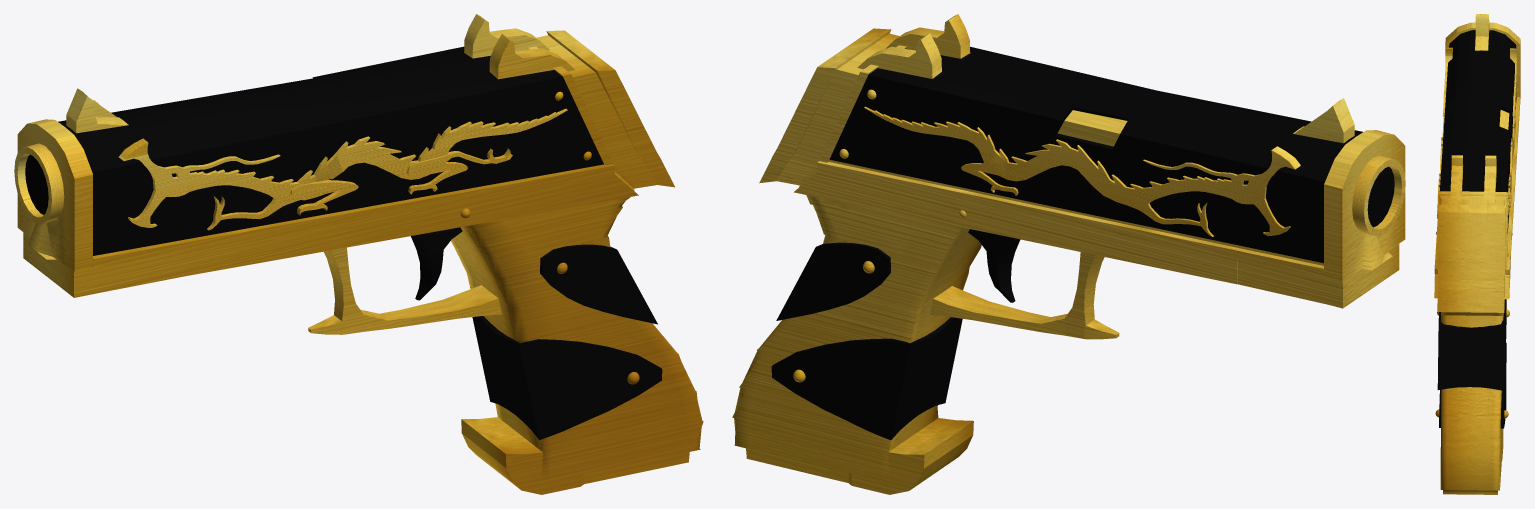
The model's file is arma killer unity.fbx.
3 renders of one model, left to right at view 1: azimuth 30°, elevation 25°; view 2: azimuth 150°, elevation 25°; view 3: azimuth 270°, elevation 25°, orthographic. The views are drawn at different scales.
Parts seen in each view (by area): view 1: cuerpo_del_arma1, base1, dragon, base2, agujero1; view 2: cuerpo_del_arma1, base1, dragon1, base2, agujero1; view 3: cuerpo_del_arma1, base2, dragon1, dragon, base1.
Part boxes in pixels (x1=…): cuerpo_del_arma1: x1=17, y1=14, x2=703, y2=494; base1: x1=472, y1=316, x2=662, y2=439; dragon: x1=119, y1=108, x2=567, y2=230; base2: x1=540, y1=244, x2=657, y2=324; agujero1: x1=14, y1=143, x2=64, y2=224; cuerpo_del_arma1: x1=732, y1=14, x2=1405, y2=494; base1: x1=771, y1=317, x2=962, y2=440; dragon1: x1=864, y1=106, x2=1300, y2=236; base2: x1=776, y1=242, x2=890, y2=320; agujero1: x1=1352, y1=155, x2=1405, y2=236; cuerpo_del_arma1: x1=1434, y1=14, x2=1520, y2=494; base2: x1=1437, y1=299, x2=1506, y2=390; dragon1: x1=1508, y1=48, x2=1517, y2=214; dragon: x1=1437, y1=47, x2=1452, y2=218; base1: x1=1439, y1=343, x2=1506, y2=428.
Size of the model in its own units: 17.57 by 12.82 by 3.29.
